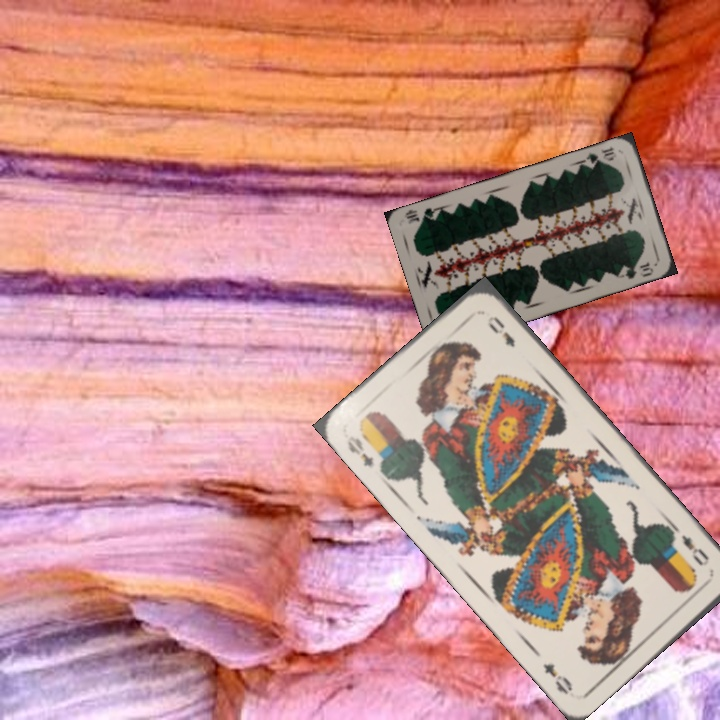EO: (677, 530, 712, 569), (342, 432, 376, 470)
G10: (581, 142, 617, 168)
